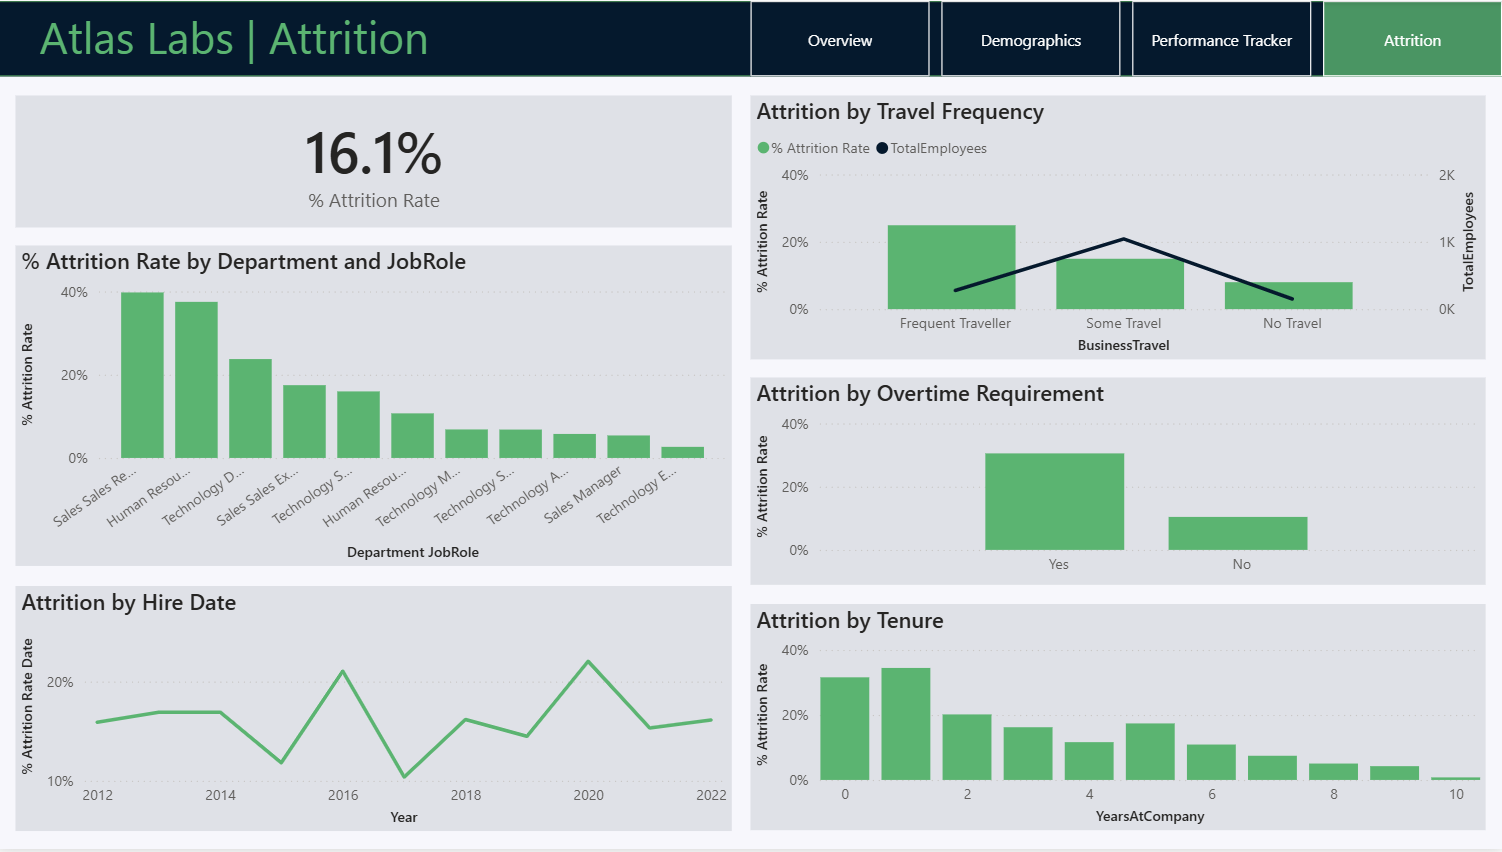

What the dashboard file says about the page in this screenshot:
{"tool":"powerbi","page":{"name":"Attrition","canvas":[1280,720],"ordinal":3},"visuals":[{"type":"card","fields":{"Values":["_Measures.% Attrition Rate"]},"box":[16,80,608,112],"z":0},{"type":"columnChart","fields":{"Category":["DimEmployee.Department","DimEmployee.JobRole"],"Y":["_Measures.% Attrition Rate"]},"box":[16,208,608,272],"z":1000},{"type":"lineChart","title":"Attrition by Hire Date","fields":{"Y":["_Measures.% Attrition Rate Date"],"Category":["DimDate.Date.Variation.Date Hierarchy.Year","DimDate.Date.Variation.Date Hierarchy.Quarter","DimDate.Date.Variation.Date Hierarchy.Month","DimDate.Date.Variation.Date Hierarchy.Day"]},"box":[16,496,608,208],"z":2000},{"type":"lineStackedColumnComboChart","title":"Attrition by Travel Frequency","fields":{"Y":["_Measures.% Attrition Rate"],"Category":["DimEmployee.BusinessTravel"],"Y2":["_Measures.TotalEmployees"]},"box":[640,80,624,224],"z":3000},{"type":"columnChart","title":"Attrition by Overtime Requirement","fields":{"Category":["DimEmployee.OverTime"],"Y":["_Measures.% Attrition Rate"]},"box":[640,320,624,176],"z":4000},{"type":"columnChart","title":"Attrition by Tenure","fields":{"Category":["DimEmployee.YearsAtCompany"],"Y":["_Measures.% Attrition Rate"]},"box":[640,512,624,192],"z":5000},{"type":"shape","box":[0,0,1280,64],"z":6000},{"type":"textbox","box":[32,0,624,64],"z":7000},{"type":"pageNavigator","box":[640,0,640,64],"z":8000}]}

Visuals, with their boxes in screenshot pixels (x1, y1, x2, y2), scaled from the page's 1280x720 canvas onto the 1502x852 screenshot:
card - _Measures.% Attrition Rate: [19,95,732,227]
columnChart - DimEmployee.Department x DimEmployee.JobRole: [19,246,732,568]
"Attrition by Hire Date" lineChart: [19,587,732,833]
"Attrition by Travel Frequency" lineStackedColumnComboChart: [751,95,1483,360]
"Attrition by Overtime Requirement" columnChart: [751,379,1483,587]
"Attrition by Tenure" columnChart: [751,606,1483,833]
shape: [0,0,1501,76]
textbox: [38,0,770,76]
pageNavigator: [751,0,1501,76]
